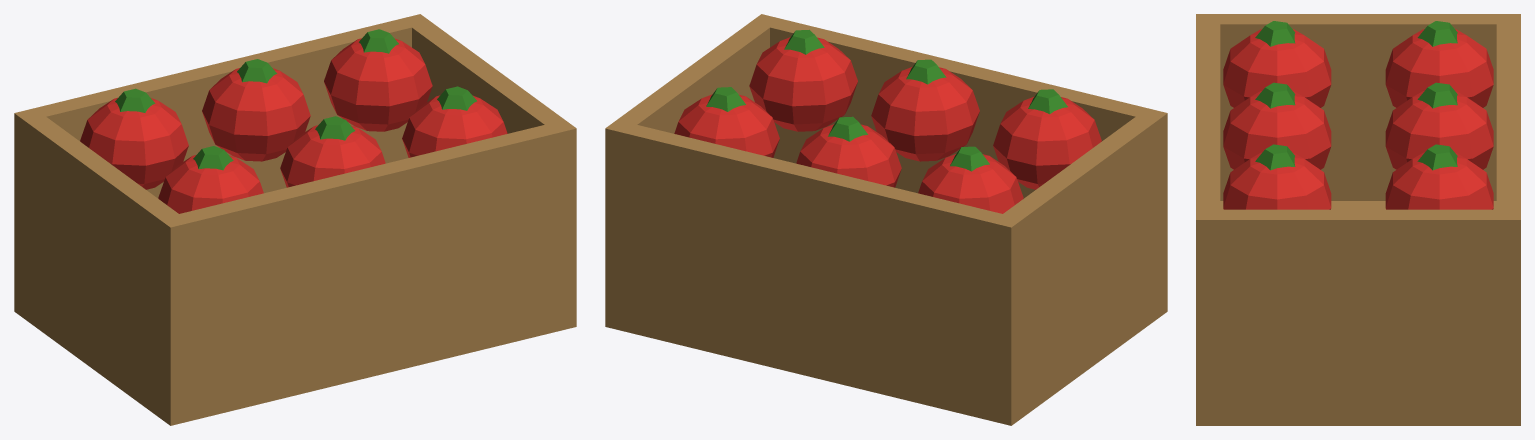
The model's file is kitchen_crate_tomato.glb.
3 renders of one model, left to right at view 1: azimuth 30°, elevation 25°; view 2: azimuth 150°, elevation 25°; view 3: azimuth 270°, elevation 25°, orthographic. The views are drawn at different scales.
Visible parts, largest first — view 1: crate_crate_wood, tomato_food_tomato, stem_food_stem; view 2: crate_crate_wood, tomato_food_tomato, stem_food_stem; view 3: crate_crate_wood, tomato_food_tomato, stem_food_stem.
Boxes of the visible parts, x1=… form: crate_crate_wood: x1=14, y1=14, x2=576, y2=425; tomato_food_tomato: x1=80, y1=38, x2=507, y2=213; stem_food_stem: x1=115, y1=29, x2=476, y2=170; crate_crate_wood: x1=605, y1=14, x2=1167, y2=425; tomato_food_tomato: x1=674, y1=37, x2=1101, y2=213; stem_food_stem: x1=706, y1=29, x2=1067, y2=171; crate_crate_wood: x1=1196, y1=14, x2=1520, y2=425; tomato_food_tomato: x1=1223, y1=29, x2=1493, y2=209; stem_food_stem: x1=1255, y1=21, x2=1457, y2=170.
Bounding box in the file's own units: 0.6 × 0.32 × 0.4.
